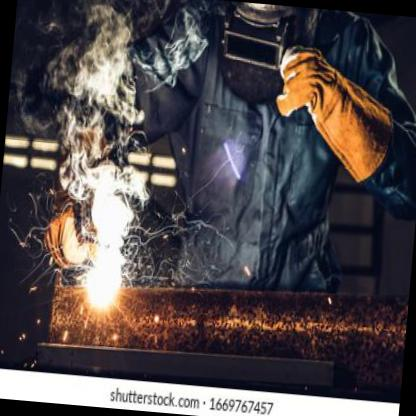Gloves: (268, 41, 400, 189)
